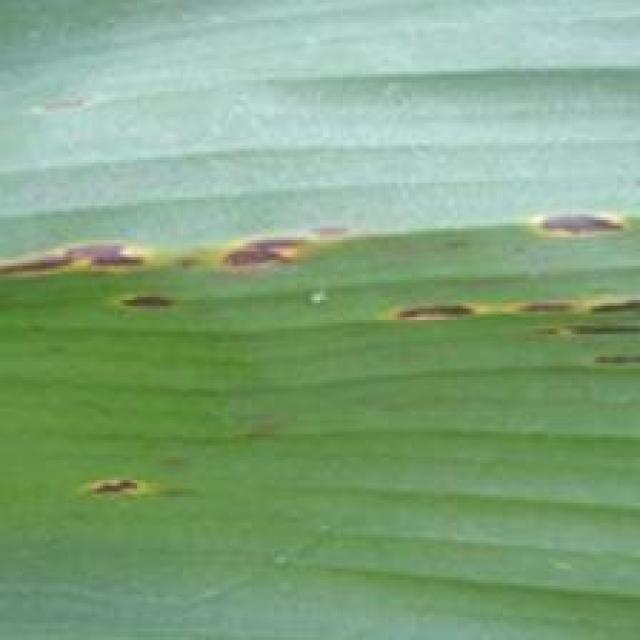Early_leaf_spot: (0, 185, 640, 377)
